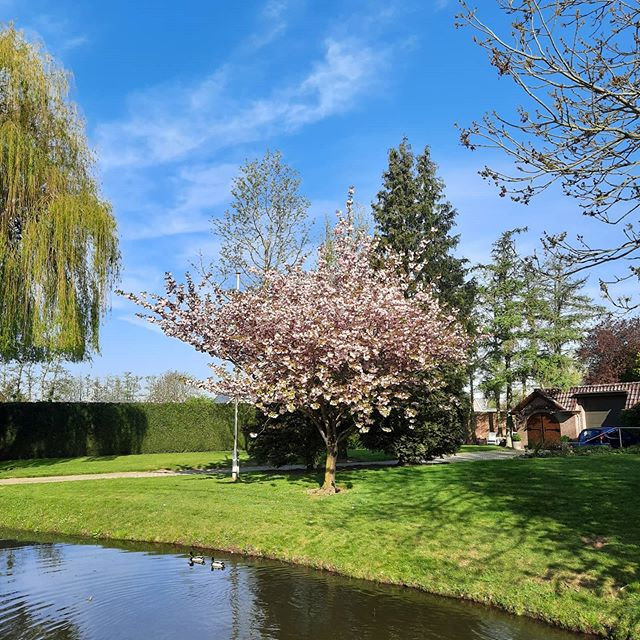animal: (183, 549, 208, 570), (209, 561, 224, 572)
building: (479, 387, 640, 450)
grass: (34, 452, 640, 573)
river: (13, 525, 639, 640)
sky: (14, 1, 614, 383)
tree: (175, 229, 461, 513), (1, 16, 122, 376), (359, 157, 465, 474), (498, 1, 640, 225), (467, 244, 583, 415)
